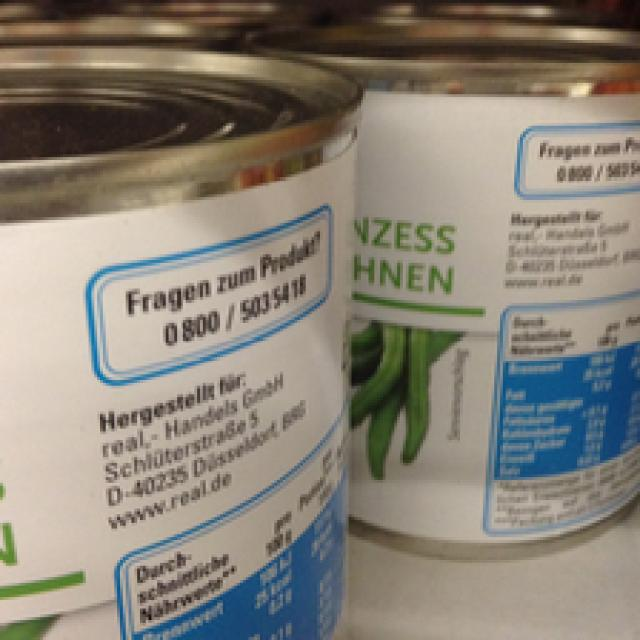groceries: (0, 60, 360, 637)
